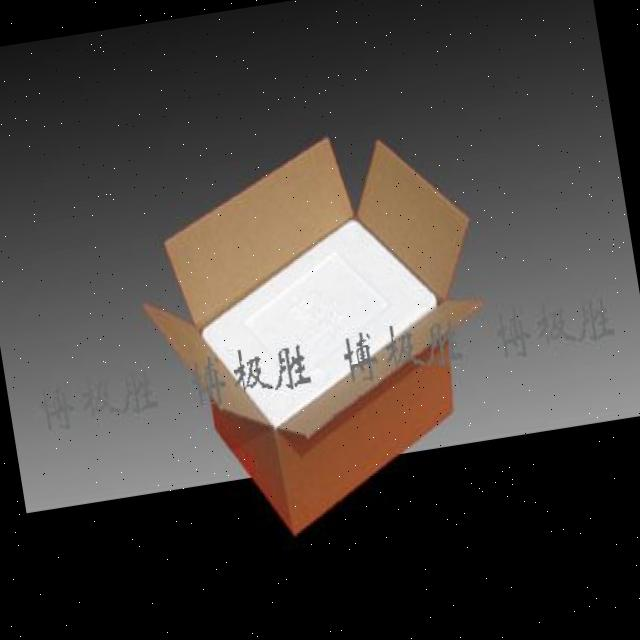styrofoam: (118, 111, 516, 554)
